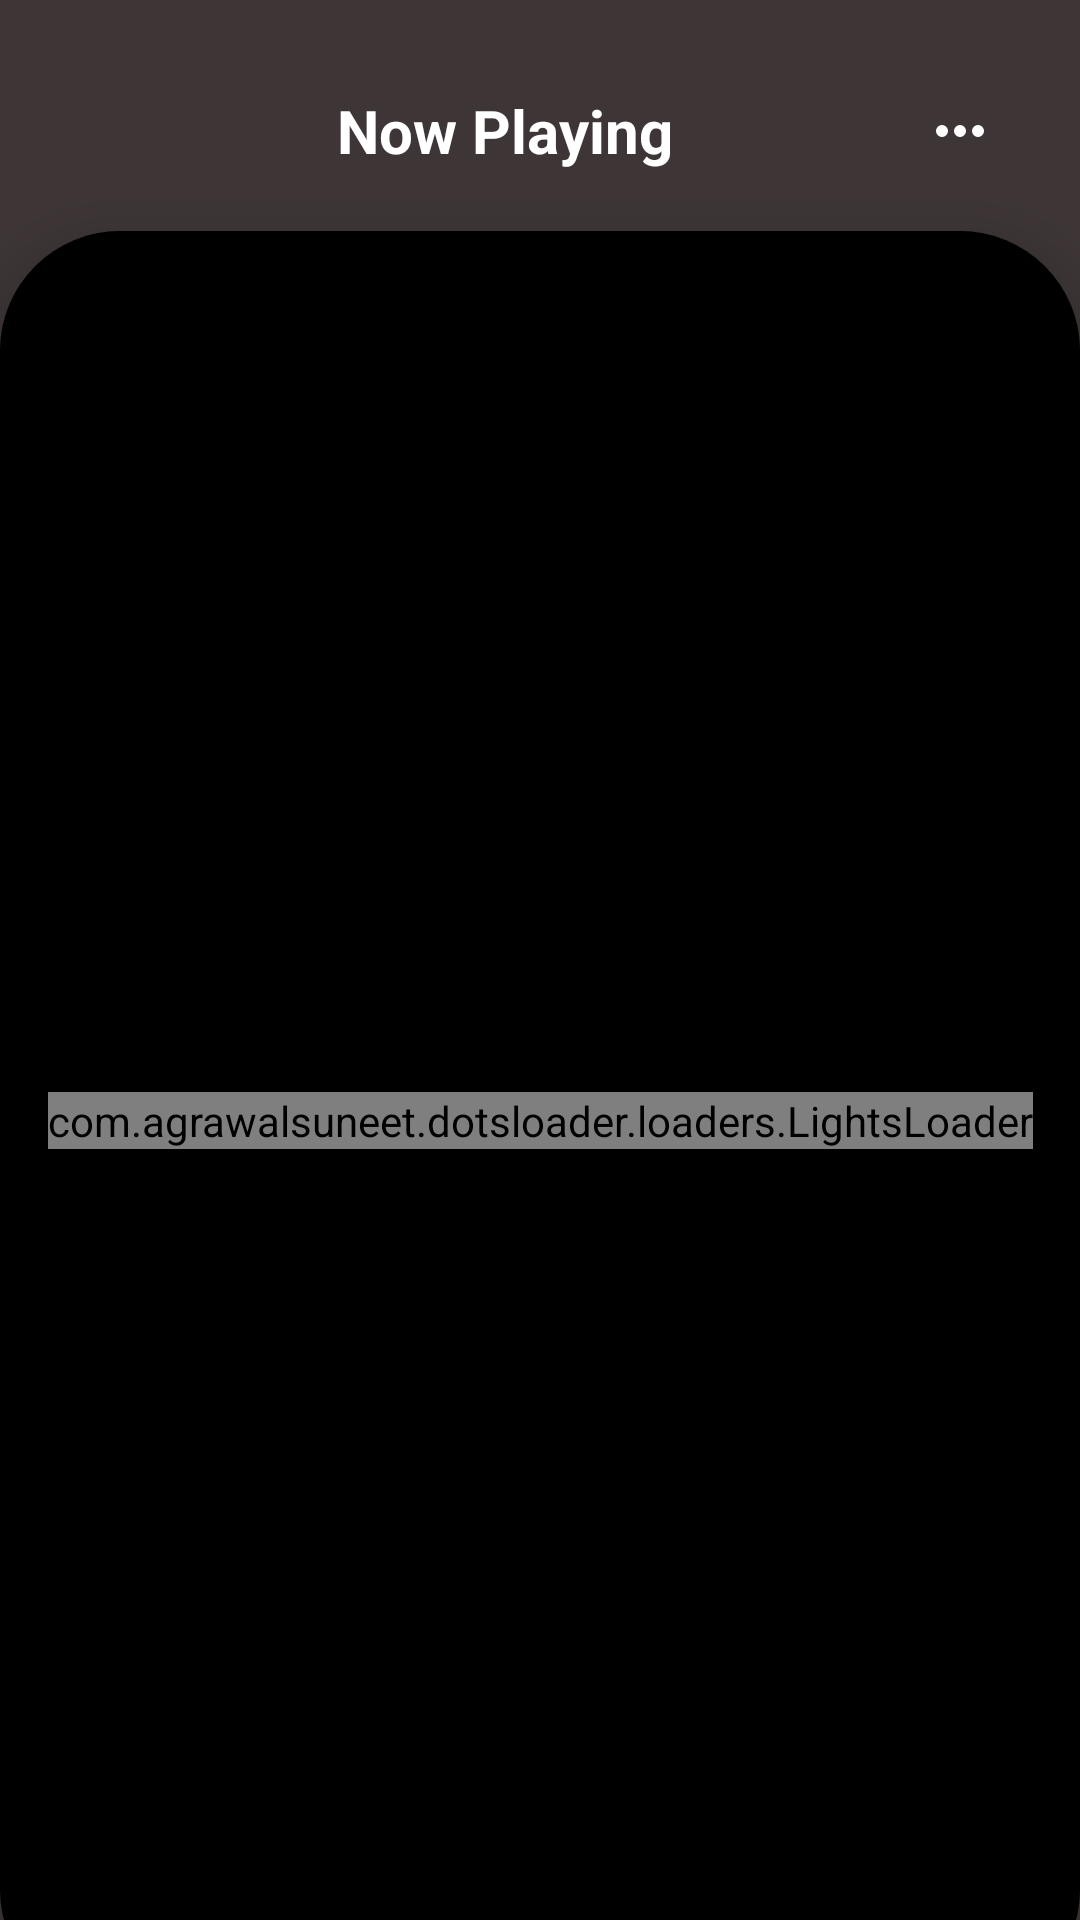

Icon bounding boxes for this 1080x1920 phone screenshot, format (x1, y1, x2, y2):
more horiz: (936, 125, 984, 137)
